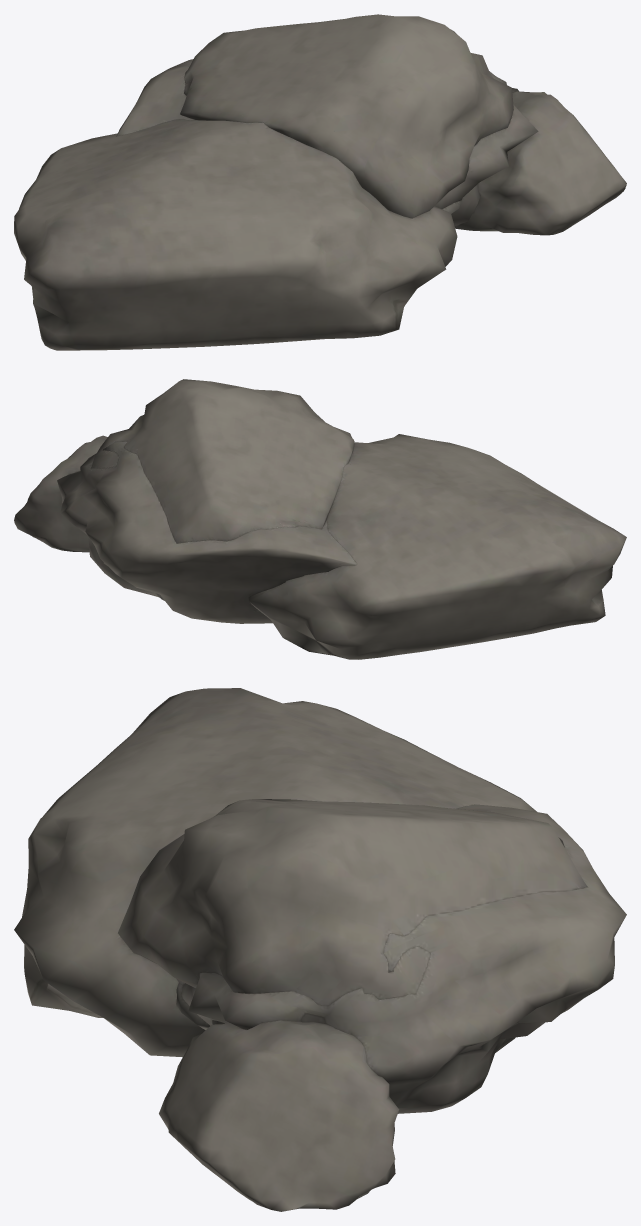
The model's file is small-cluster.glb.
3 views of the same model, one above another, from view 1: azimuth 30°, elevation 25°; view 2: azimuth 150°, elevation 25°; view 3: azimuth 270°, elevation 25° (orthographic). The views are drawn at different scales.
Visible parts, largest first — view 1: stone; view 2: stone; view 3: stone.
Part boxes in pixels (x1,y1,x2,y2): stone: [14, 14, 626, 350]; stone: [14, 379, 626, 659]; stone: [14, 688, 626, 1211].
Size of the model in its own units: 0.69 by 0.2124 by 0.447.
Materials: 1 (1 with a texture image).
